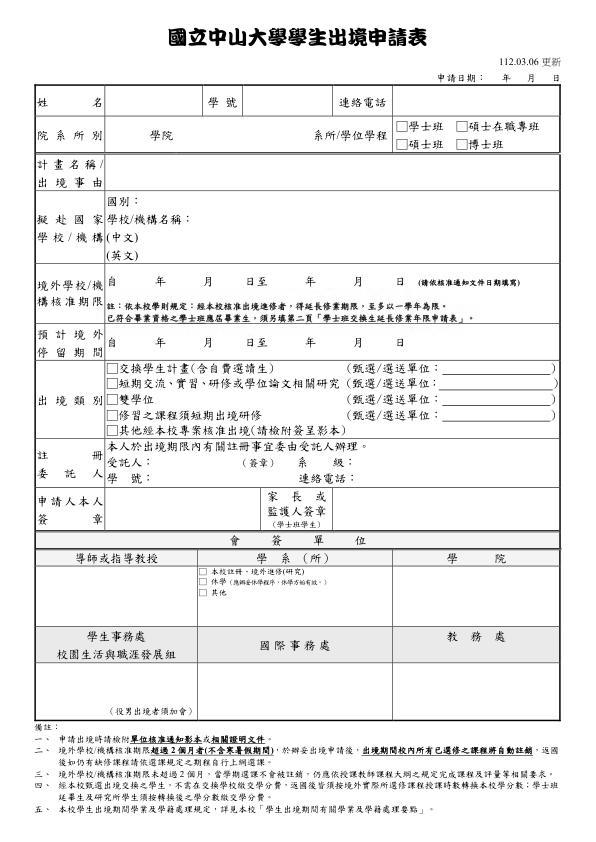table: (30, 82, 567, 722)
text: (32, 734, 566, 816), (166, 24, 434, 51), (435, 73, 564, 83), (495, 55, 563, 69), (32, 721, 59, 733)
